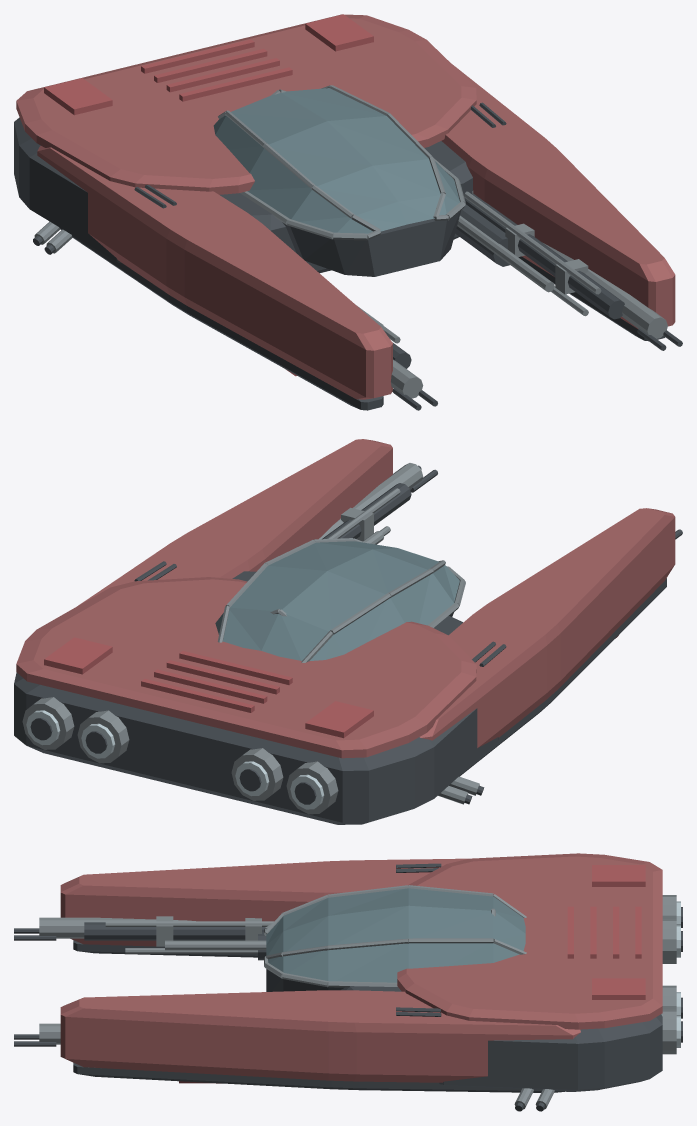
The model's file is x6_red_off.glb.
The picture shows the model from 3 angles, top to bottom: view 1: azimuth 30°, elevation 25°; view 2: azimuth 150°, elevation 25°; view 3: azimuth 270°, elevation 25°; orthographic projection. The views are drawn at different scales.
Parts seen in each view (by area): view 1: material_1, material_4, material_0, material_2, material_3; view 2: material_1, material_0, material_4, material_2, material_3, material_5; view 3: material_1, material_0, material_4, material_2, material_3, material_5.
Boxes of the visible parts, x1,y1,x2,y2 form: material_1: (16, 14, 675, 399); material_4: (213, 88, 459, 233); material_0: (14, 102, 682, 410); material_2: (34, 85, 667, 398); material_3: (44, 14, 373, 376); material_1: (16, 439, 675, 758); material_0: (14, 465, 682, 824); material_4: (215, 541, 459, 660); material_2: (22, 463, 479, 814); material_3: (44, 635, 618, 738); material_5: (26, 710, 324, 809); material_1: (60, 853, 662, 1082); material_0: (14, 863, 682, 1111); material_4: (266, 888, 525, 982); material_2: (39, 885, 676, 1109); material_3: (179, 865, 645, 1083); material_5: (676, 901, 680, 1047).
Size of the model in its own units: 3.18 by 0.8789 by 4.75.
